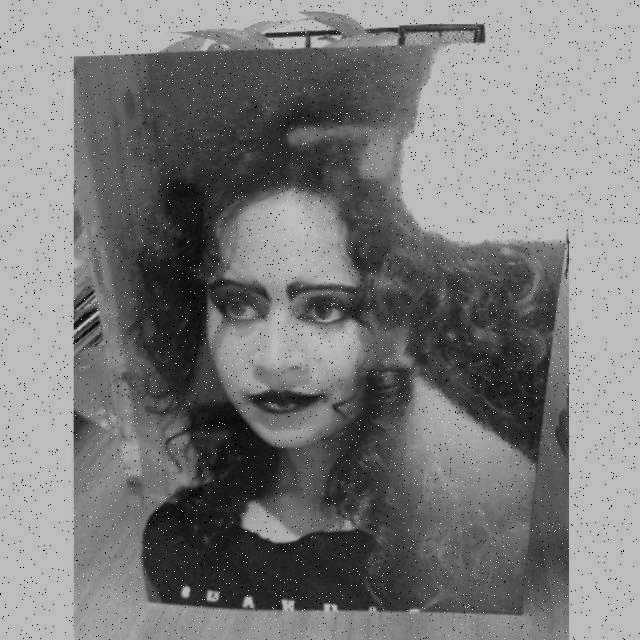fake: (72, 42, 567, 622)
